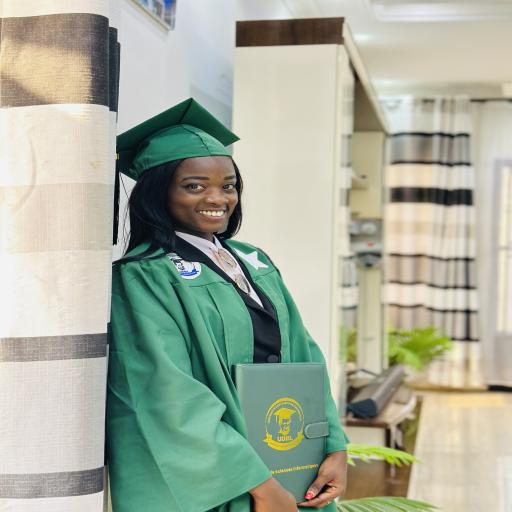LAURENE: (150, 159, 266, 236)
